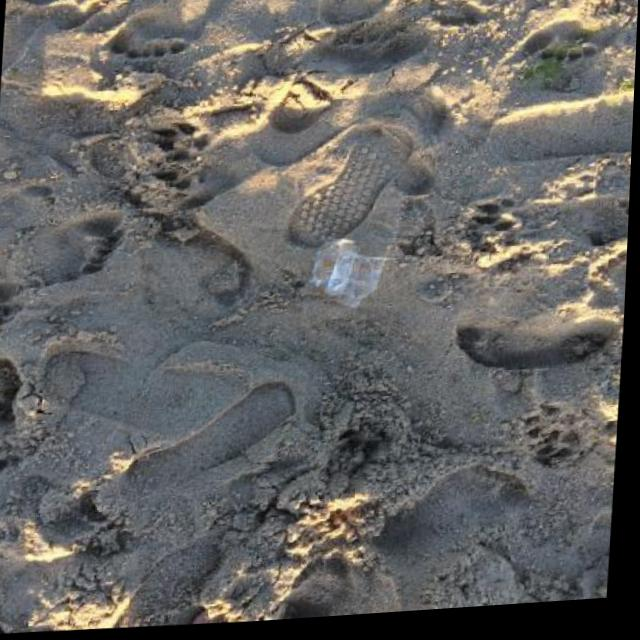plastic: (300, 230, 389, 313)
